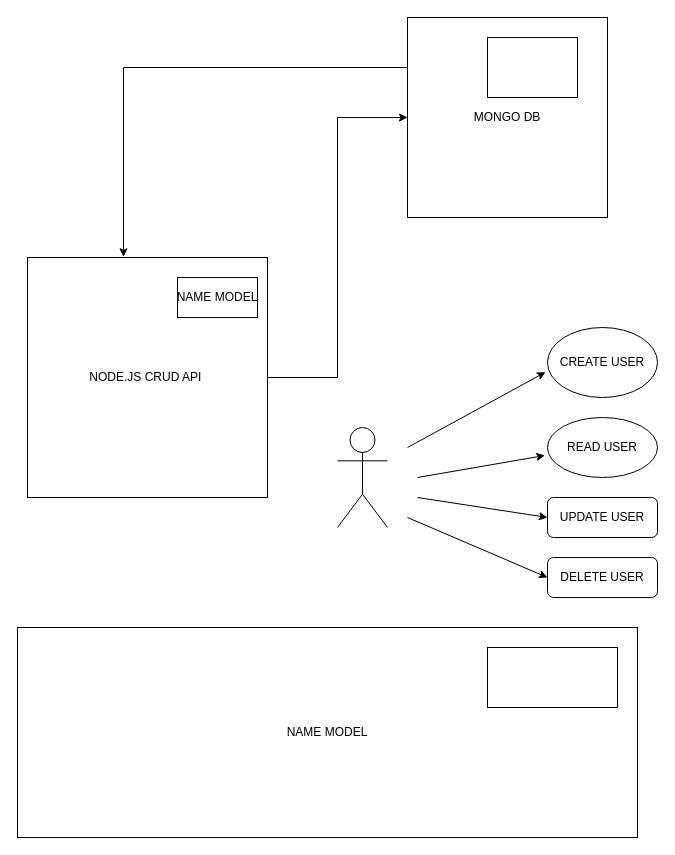
Some shapes in this 675 by 855 pixel diagram are drawn without their labels. Each missing label, with the centre of its shape:
"Actor" belongs at pixel 362 477.
"NAME DATA" belongs at pixel 532 67.
"NAME SCHEMA" belongs at pixel 552 677.
